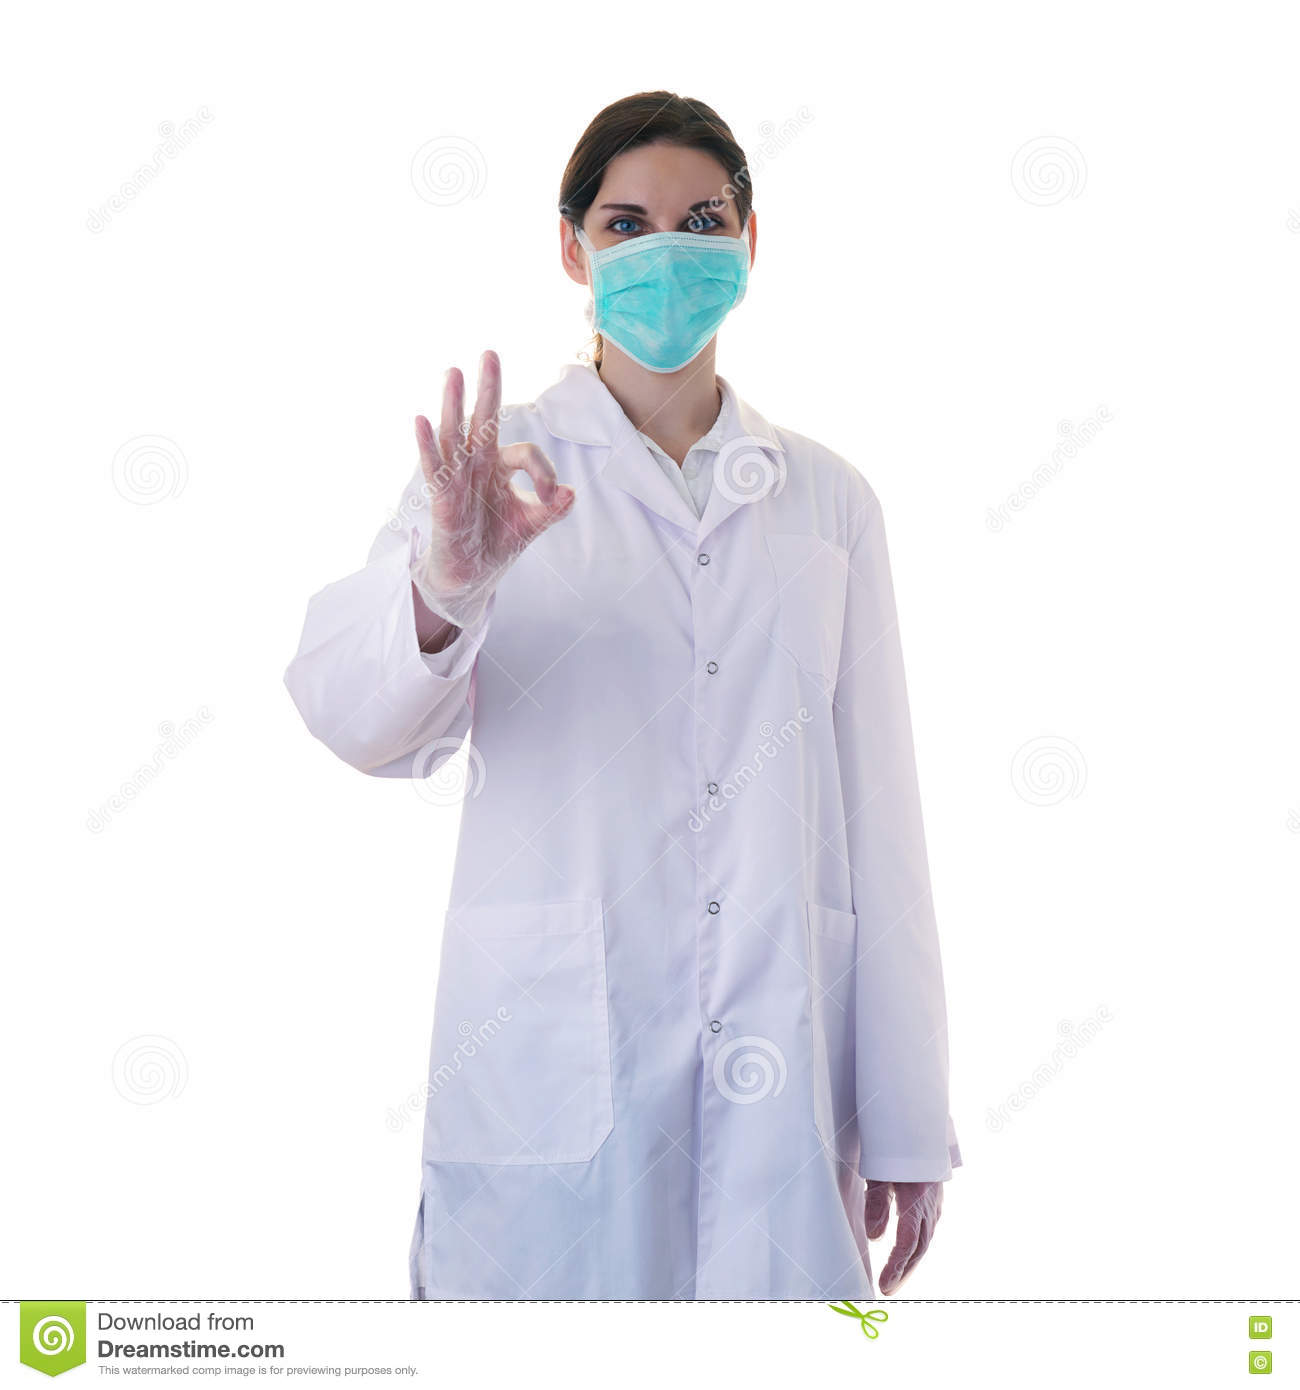mask: (589, 231, 749, 373)
